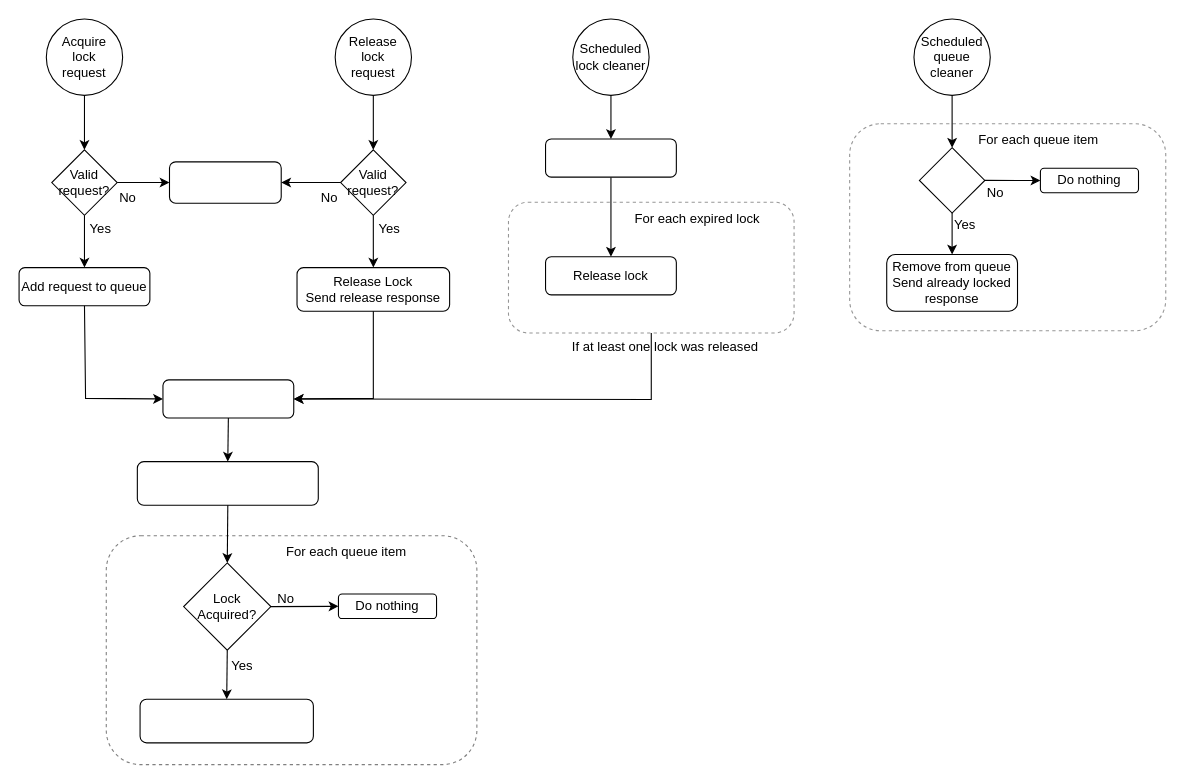
Image size: 1185x784. Some labels were removed from this diagram. Here are the shapes that lost their labels. From the top down, the box of each, then its label:
(544, 138, 676, 177): Get all expired locks
(168, 161, 281, 203): Send error response
(918, 147, 985, 213): Item timeout?
(162, 379, 294, 418): Process queue
(136, 461, 318, 505): Go through queue ordered by priority and time inserted
(139, 698, 313, 743): Remove from queue Send acquire lock response
